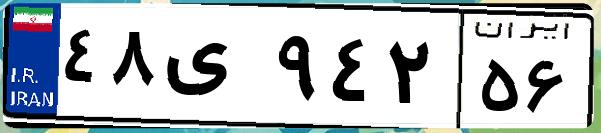2: (385, 28, 445, 110)
4: (330, 28, 385, 110), (57, 26, 110, 100)
5: (475, 38, 525, 113)
6: (525, 38, 570, 115)
8: (110, 28, 158, 98)
9: (270, 28, 330, 110)
ی: (158, 20, 270, 120)
